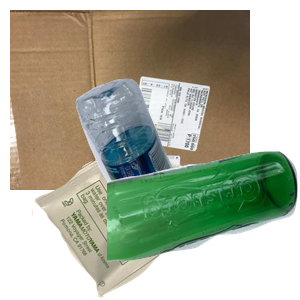cardboard: (10, 10, 250, 190)
glass: (107, 149, 300, 300)
plastic: (73, 76, 300, 256)
trash: (29, 124, 238, 300)
